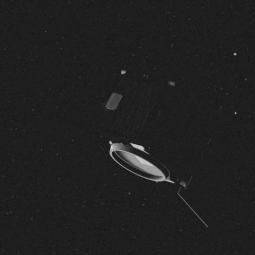proba_3_csc: (101, 63, 232, 229)
